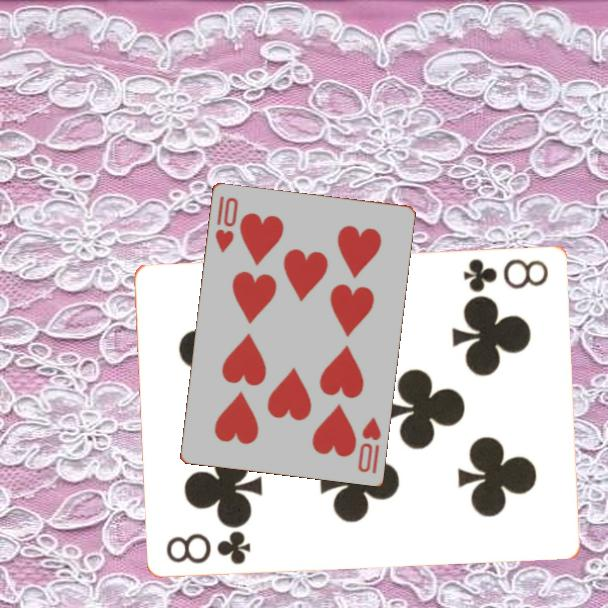c08: (460, 254, 551, 295), (163, 527, 254, 567)
h10: (211, 192, 241, 255), (354, 414, 383, 476)
